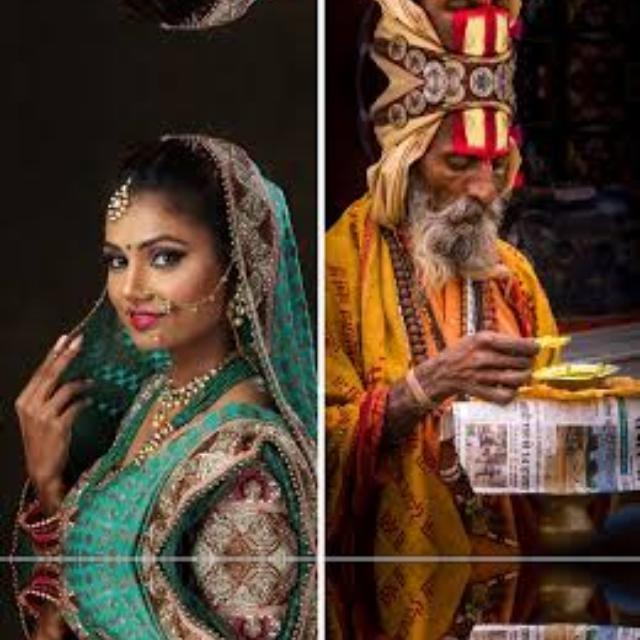person: (332, 86, 590, 558), (34, 144, 302, 558), (34, 558, 302, 640), (331, 558, 590, 640), (331, 0, 590, 76), (34, 0, 302, 18)
